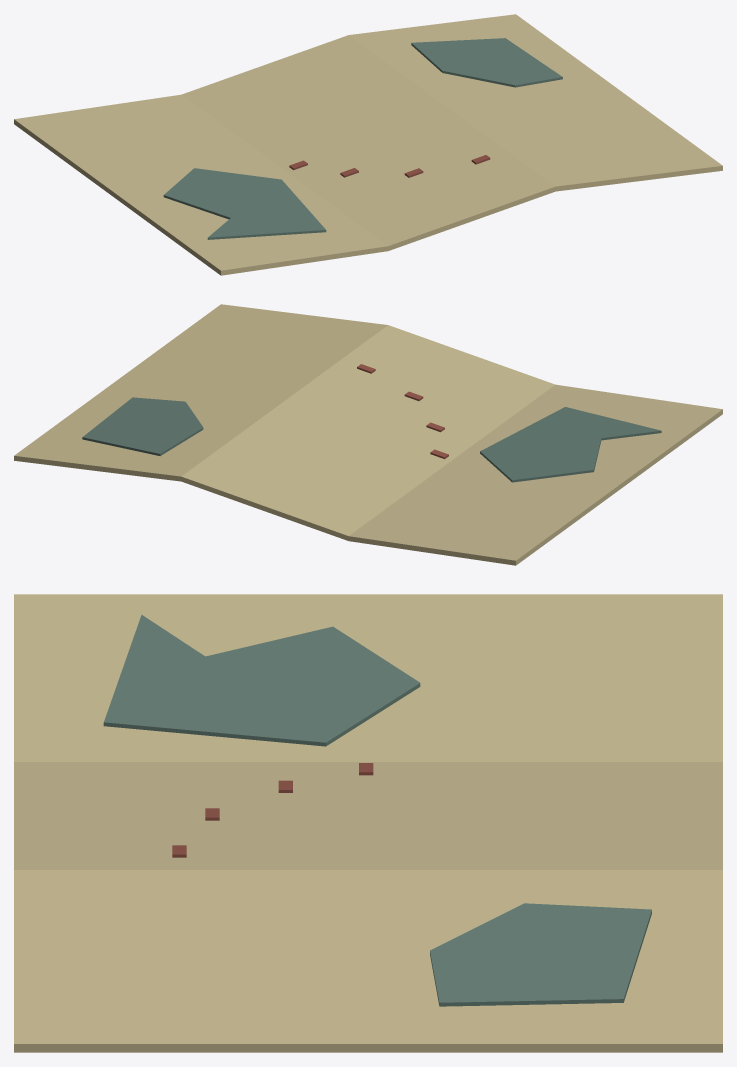
The model's file is SWP_FoldedSeaChart.fbx.
3 views of the same model, one above another, from view 1: azimuth 30°, elevation 25°; view 2: azimuth 150°, elevation 25°; view 3: azimuth 270°, elevation 25° (orthographic). The views are drawn at different scales.
Visible parts, largest first — view 1: SWP_FoldedSeaChart; view 2: SWP_FoldedSeaChart; view 3: SWP_FoldedSeaChart.
Part boxes in pixels (x1,y1,x2,y2): SWP_FoldedSeaChart: (14, 14, 722, 275); SWP_FoldedSeaChart: (14, 304, 722, 565); SWP_FoldedSeaChart: (14, 594, 722, 1052).
Bounding box in the file's own units: 0.42 × 0.02 × 0.3.
